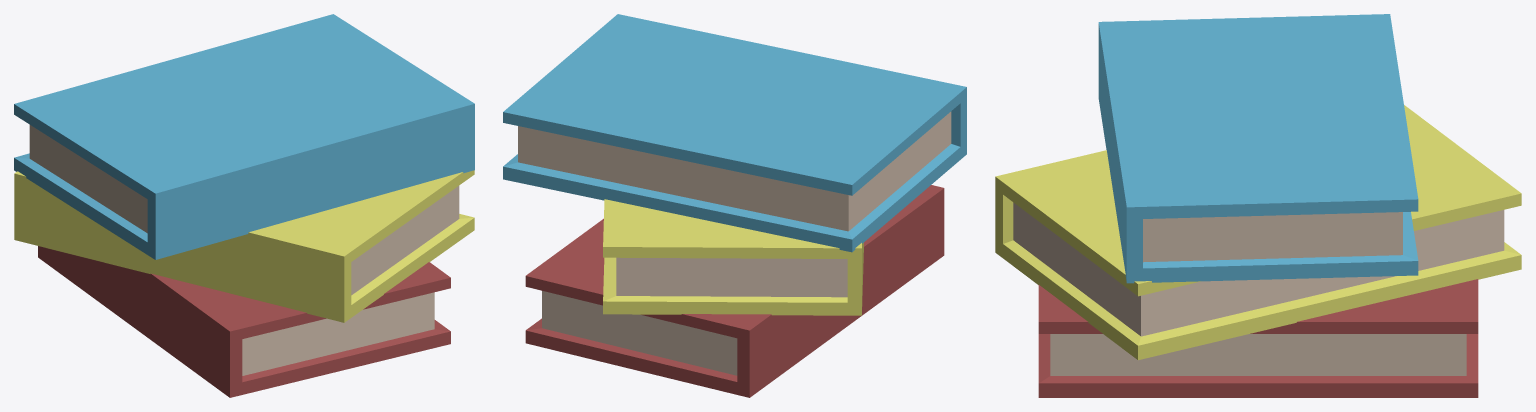
The model's file is BoekenEN.fbx.
The picture shows the model from 3 angles, left to right: view 1: azimuth 30°, elevation 25°; view 2: azimuth 150°, elevation 25°; view 3: azimuth 270°, elevation 25°; orthographic projection. The views are drawn at different scales.
Parts seen in each view (by area): view 1: pCube4; view 2: pCube4; view 3: pCube4.
Boxes of the visible parts, left/top/right/bottom form: pCube4: left=14, top=14, right=474, bottom=397; pCube4: left=503, top=14, right=966, bottom=397; pCube4: left=995, top=14, right=1521, bottom=397.
Size of the model in its own units: 6.03 by 3.19 by 6.76.
